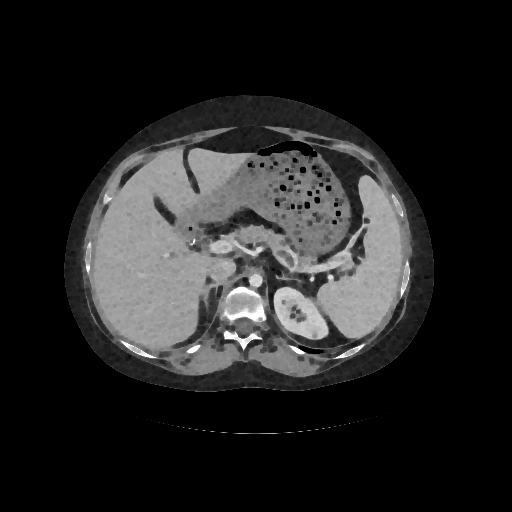Lesion: (308, 329, 322, 339)
